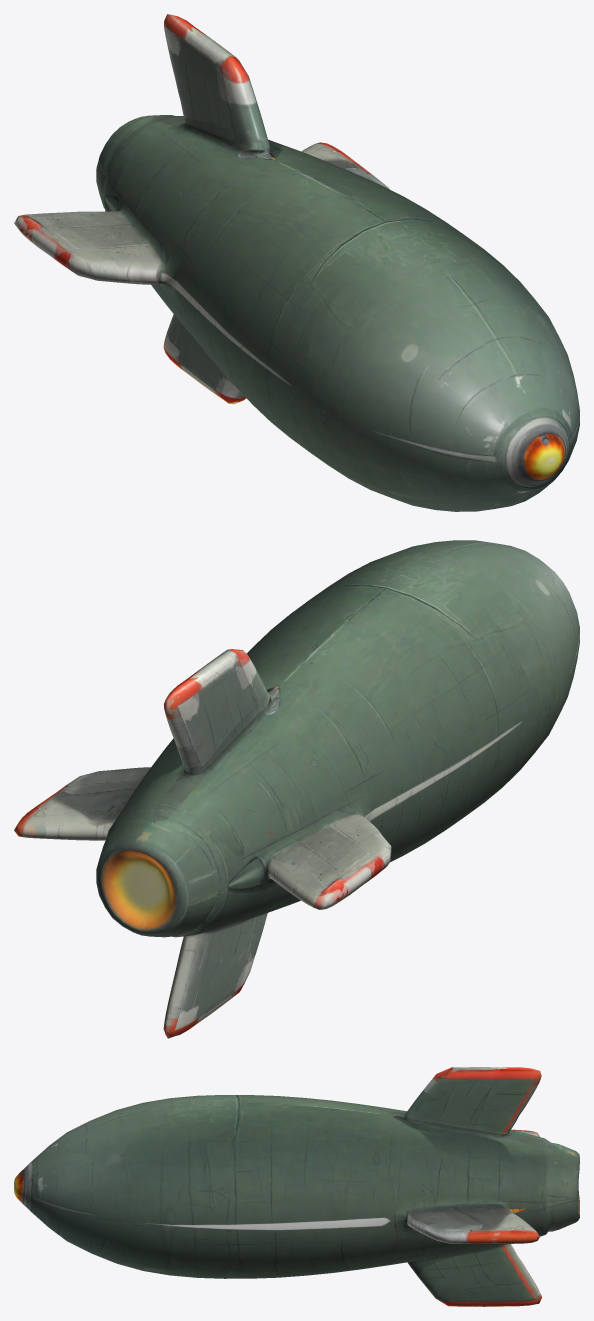
The model's file is Missle.fbx.
The picture shows the model from 3 angles, top to bottom: view 1: azimuth 30°, elevation 25°; view 2: azimuth 150°, elevation 25°; view 3: azimuth 270°, elevation 25°; orthographic projection. The views are drawn at different scales.
Parts seen in each view (by area): view 1: Mesh1_Mesh1.019; view 2: Mesh1_Mesh1.019; view 3: Mesh1_Mesh1.019.
Boxes of the visible parts, x1,y1,x2,y2 form: Mesh1_Mesh1.019: (14,14,579,511); Mesh1_Mesh1.019: (14,540,579,1038); Mesh1_Mesh1.019: (14,1067,579,1306).
Size of the model in its own units: 88.9 by 92.87 by 200.
Materials: 1 (1 with a texture image).
